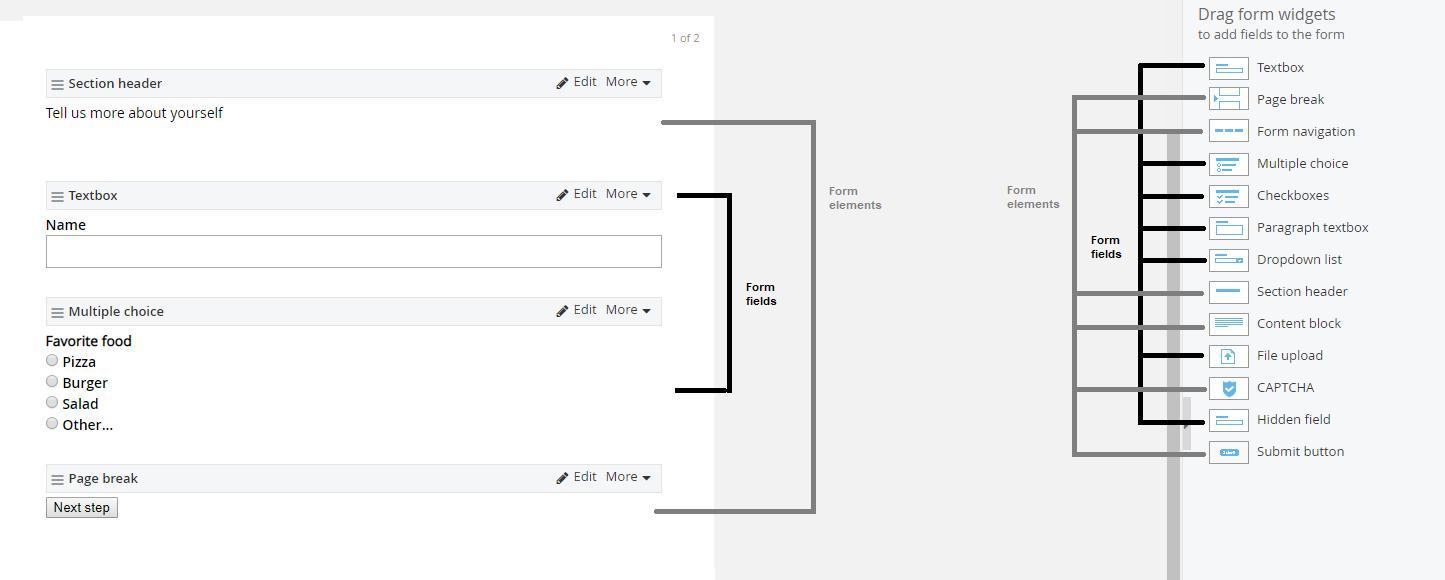button: (48, 498, 120, 519)
icon: (1209, 345, 1250, 370), (1209, 314, 1251, 338), (1210, 217, 1250, 242), (1210, 88, 1250, 112), (1210, 120, 1250, 144), (1209, 58, 1250, 81), (1209, 186, 1250, 209), (1210, 250, 1251, 273), (1209, 282, 1250, 305), (1211, 153, 1250, 177), (1210, 378, 1249, 401), (1210, 410, 1249, 433), (1209, 443, 1249, 465), (50, 79, 68, 95), (556, 471, 572, 488), (50, 306, 66, 323), (51, 473, 67, 489), (52, 190, 67, 206), (555, 187, 570, 203), (556, 304, 570, 320), (556, 76, 570, 92)
label: (1255, 223, 1372, 237), (1256, 286, 1351, 302), (1259, 126, 1359, 141), (1257, 316, 1344, 332), (45, 334, 135, 349), (1256, 157, 1351, 171), (1257, 253, 1345, 268), (1256, 413, 1335, 428), (1259, 446, 1347, 459), (1260, 190, 1332, 205), (1257, 348, 1326, 363), (1257, 381, 1317, 397), (1260, 94, 1326, 108), (62, 376, 113, 392), (62, 420, 115, 434), (62, 399, 104, 414), (47, 220, 91, 234), (62, 356, 101, 371), (1258, 63, 1305, 75)
radio: (46, 375, 61, 388), (47, 354, 61, 367), (47, 396, 61, 409), (46, 417, 60, 430)
